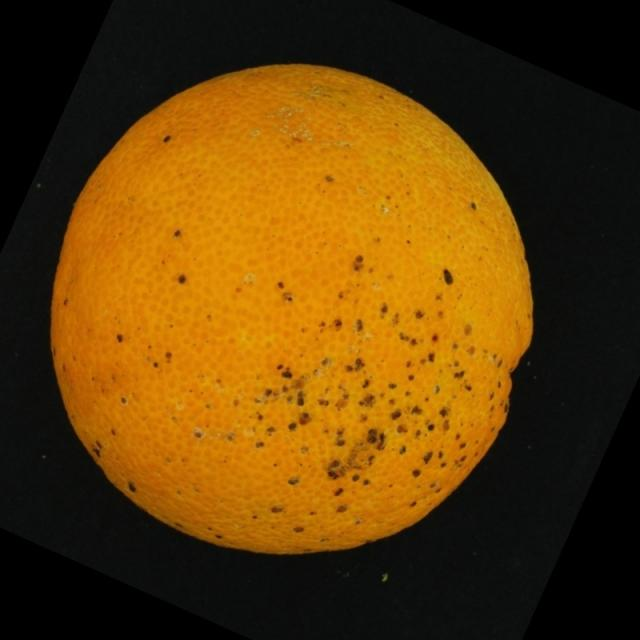grenning: (30, 46, 548, 566)
